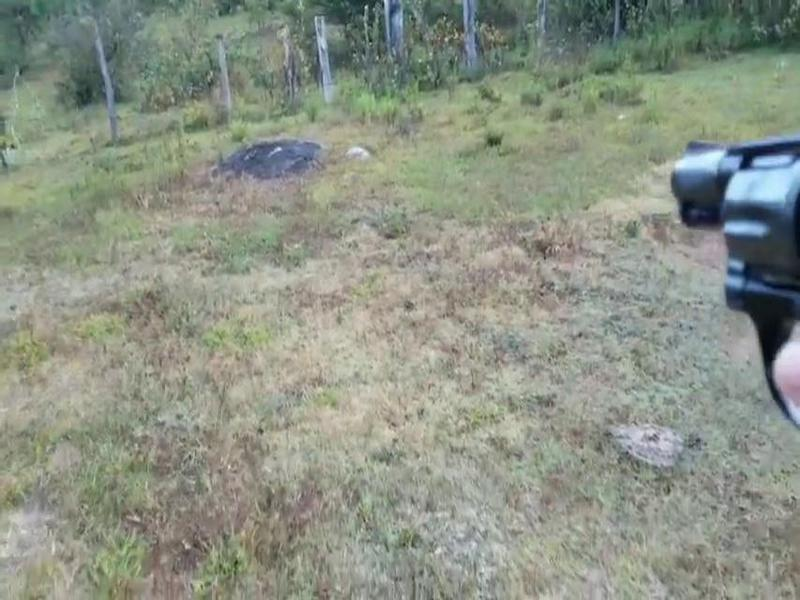Revolver: (666, 101, 800, 415)
